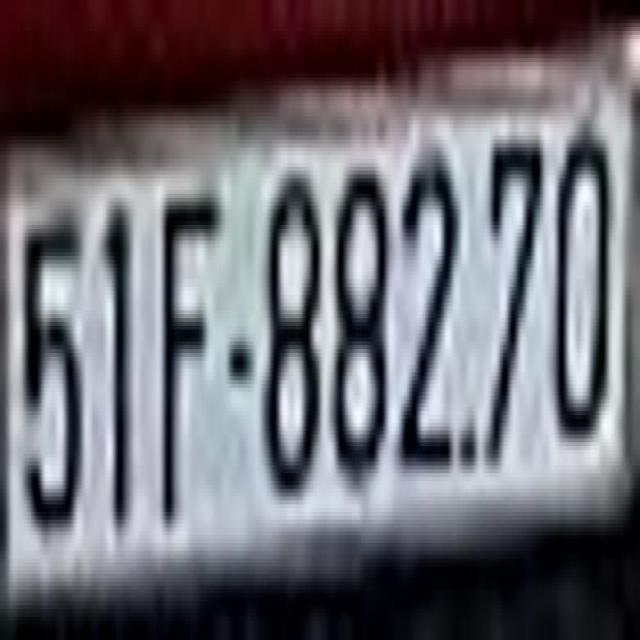0: (555, 128, 607, 446)
1: (99, 183, 134, 532)
2: (399, 140, 456, 473)
5: (21, 198, 84, 551)
7: (485, 128, 543, 485)
8: (263, 144, 324, 492), (331, 167, 386, 492)
F: (159, 183, 220, 532)
